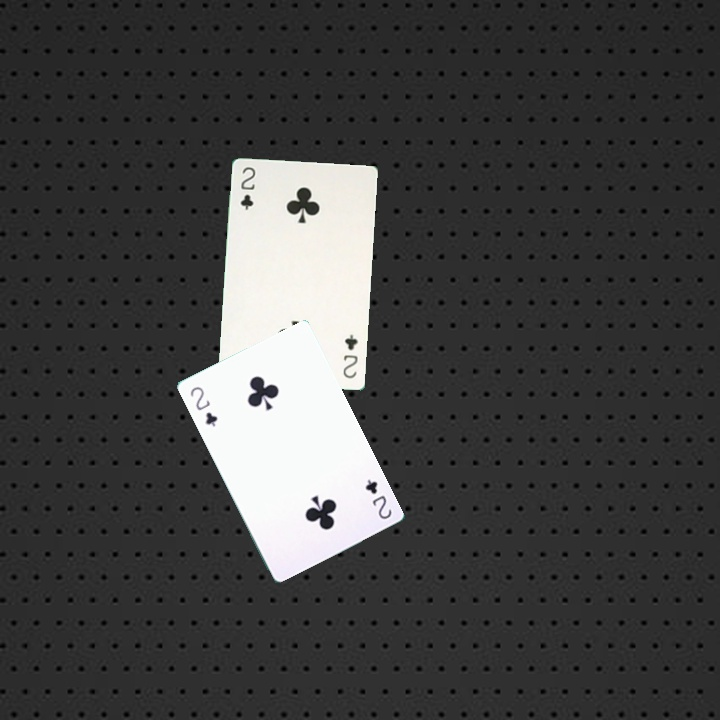2c: (186, 382, 220, 429), (361, 475, 394, 522), (339, 330, 360, 381), (237, 163, 258, 213)
